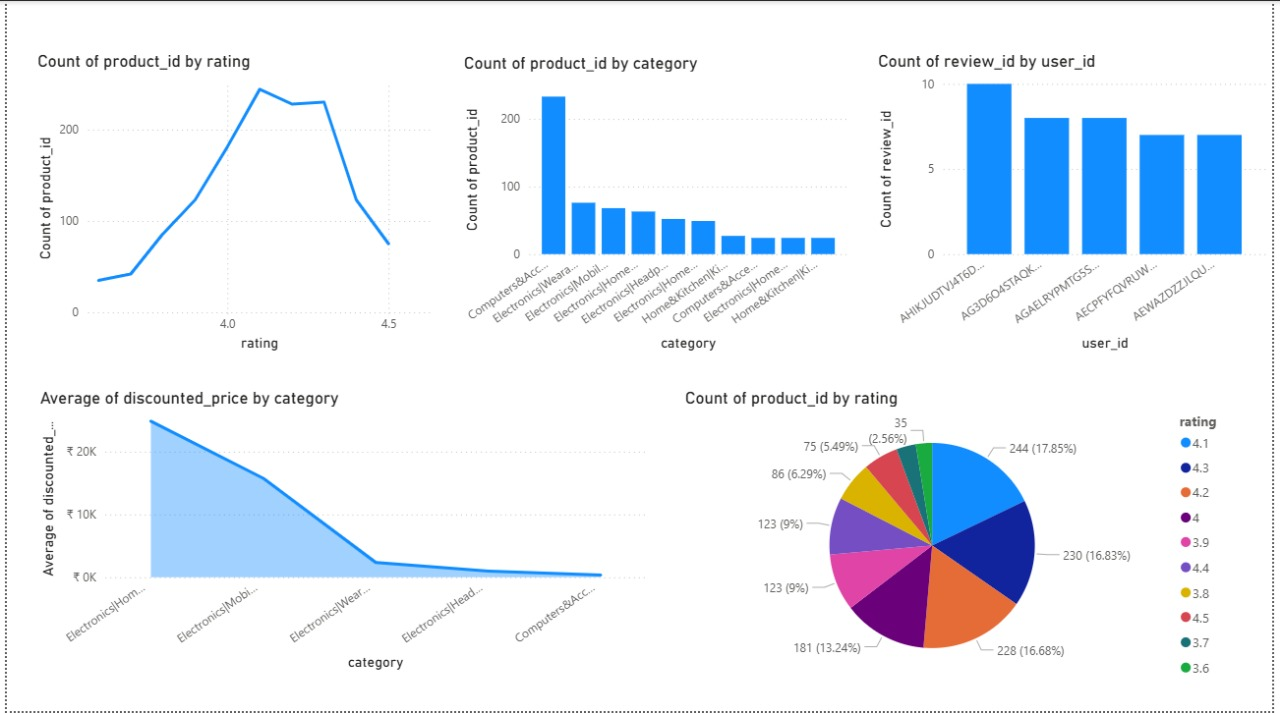

What the dashboard file says about the page in this screenshot:
{"tool":"powerbi","page":{"name":"Page 1","canvas":[1280,720],"ordinal":0},"visuals":[{"type":"lineChart","fields":{"Category":["amazon.rating"],"Y":["CountNonNull(amazon.product_id)"]},"box":[26.1,51,408,308.5],"z":0},{"type":"clusteredColumnChart","fields":{"Category":["amazon.category"],"Y":["CountNonNull(amazon.product_id)"]},"box":[457.8,52.2,398.1,307.3],"z":1000},{"type":"areaChart","fields":{"Category":["amazon.category"],"Y":["Avg(amazon.discounted_price)"]},"box":[28.6,391.8,623.2,291.1],"z":2000},{"type":"pieChart","fields":{"Category":["amazon.rating"],"Y":["CountNonNull(amazon.product_id)"]},"box":[681.7,391.8,567.2,301],"z":3000},{"type":"columnChart","fields":{"Category":["amazon.user_id"],"Y":["CountNonNull(amazon.review_id)"]},"box":[877,51,403,308.5],"z":4000}]}

Visuals, with their boxes in screenshot pixels (x1, y1, x2, y2), scaled from the page's 1280x720 canvas onto the 1280x713 screenshot:
lineChart - amazon.rating x CountNonNull(amazon.product_id): 26,51,434,356
clusteredColumnChart - amazon.category x CountNonNull(amazon.product_id): 458,52,856,356
areaChart - amazon.category x Avg(amazon.discounted_price): 29,388,652,676
pieChart - amazon.rating x CountNonNull(amazon.product_id): 682,388,1249,686
columnChart - amazon.user_id x CountNonNull(amazon.review_id): 877,51,1279,356
